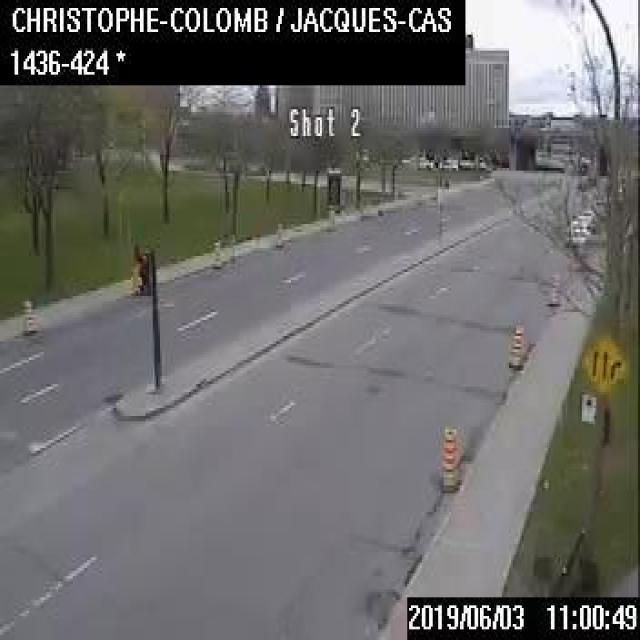construction: (440, 422, 460, 491), (508, 322, 524, 368), (22, 294, 35, 334), (549, 269, 558, 304), (130, 262, 138, 296), (211, 239, 221, 266), (274, 220, 282, 245), (327, 207, 334, 230)
vehicle: (566, 218, 594, 245), (568, 212, 595, 230), (400, 154, 432, 168), (576, 206, 594, 225)
